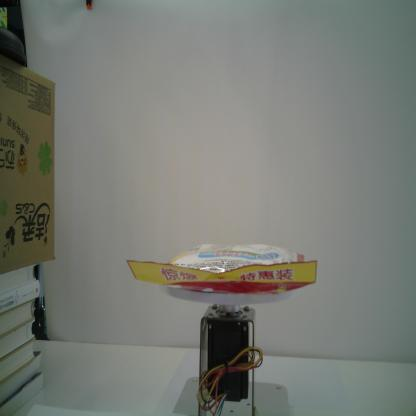Instant Drink: (126, 243, 318, 296)
